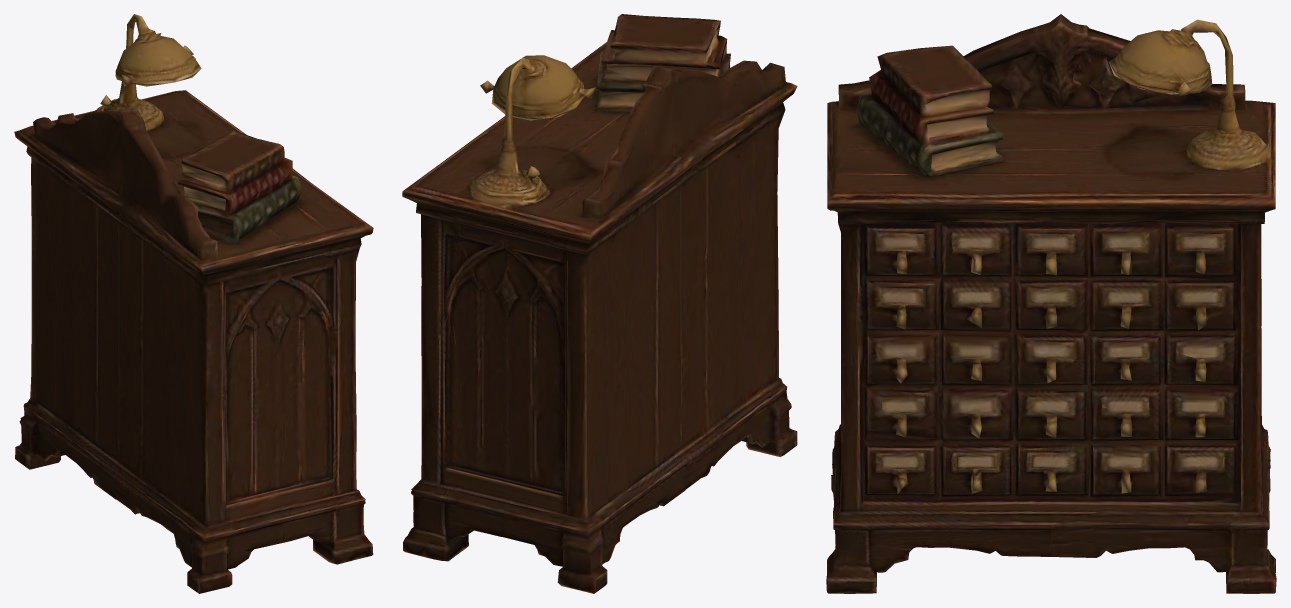
Rendered from catalog.glb.
The picture shows the model from 3 angles, left to right: view 1: azimuth 30°, elevation 25°; view 2: azimuth 150°, elevation 25°; view 3: azimuth 270°, elevation 25°; orthographic projection. The views are drawn at different scales.
Visible parts, largest first — view 1: tripo_node_7c8df63f-76ee-43b0-ac88-01ece74e8b54; view 2: tripo_node_7c8df63f-76ee-43b0-ac88-01ece74e8b54; view 3: tripo_node_7c8df63f-76ee-43b0-ac88-01ece74e8b54.
Boxes of the visible parts, x1,y1,x2,y2 form: tripo_node_7c8df63f-76ee-43b0-ac88-01ece74e8b54: [14, 14, 373, 593]; tripo_node_7c8df63f-76ee-43b0-ac88-01ece74e8b54: [402, 14, 797, 593]; tripo_node_7c8df63f-76ee-43b0-ac88-01ece74e8b54: [826, 14, 1276, 593].
Size of the model in its own units: 0.4058 by 0.9806 by 0.7547.
1 material, 1 textured.
